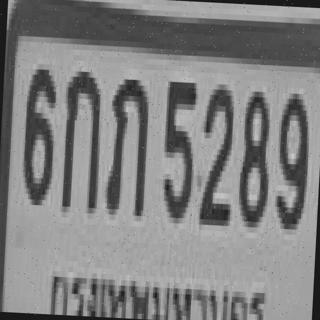A01: (59, 66, 103, 208)
A32: (103, 73, 148, 211)
N02: (198, 78, 235, 221)
N05: (159, 76, 197, 219)
N06: (20, 63, 56, 200)
N08: (236, 86, 272, 223)
N09: (272, 88, 310, 224)
